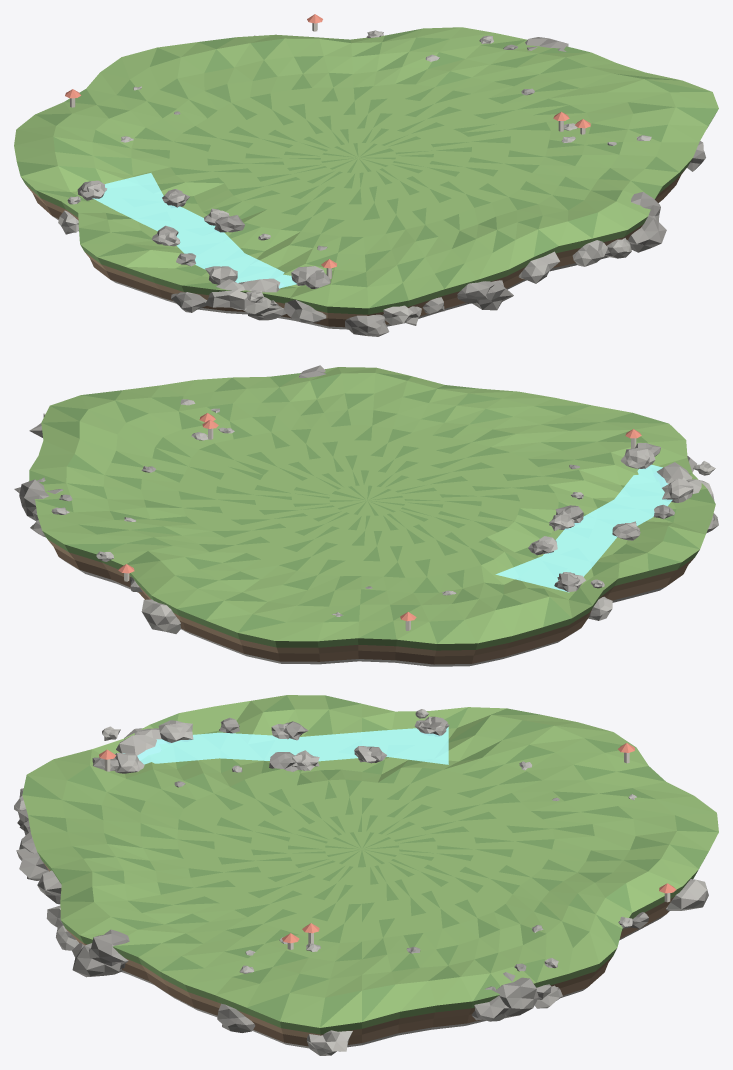
File: terrain.glb
3 views of the same model, one above another, from view 1: azimuth 30°, elevation 25°; view 2: azimuth 150°, elevation 25°; view 3: azimuth 270°, elevation 25° (orthographic). The views are drawn at different scales.
Size of the model in its own units: 0.7836 by 0.07 by 0.6923.
